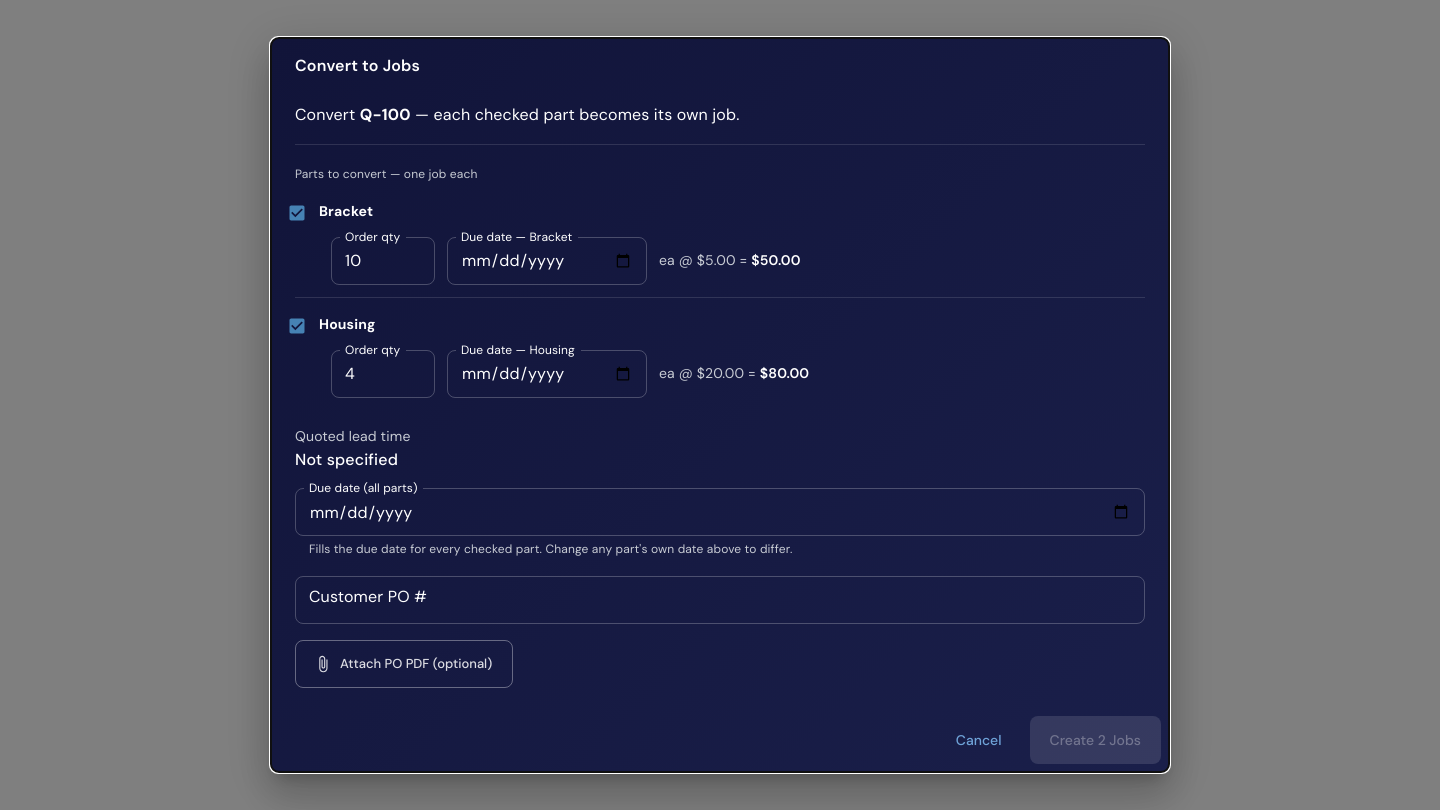
Test: ConvertToJobModal — one job per checked part › counts the jobs on the button, and drops back to the mirror number at one part
Expected: the button "Create 2 Jobs" is shown, [1030,716,1161,764]
Click the checkbox named "include housing" at point(297, 326), box [287,316,307,336]
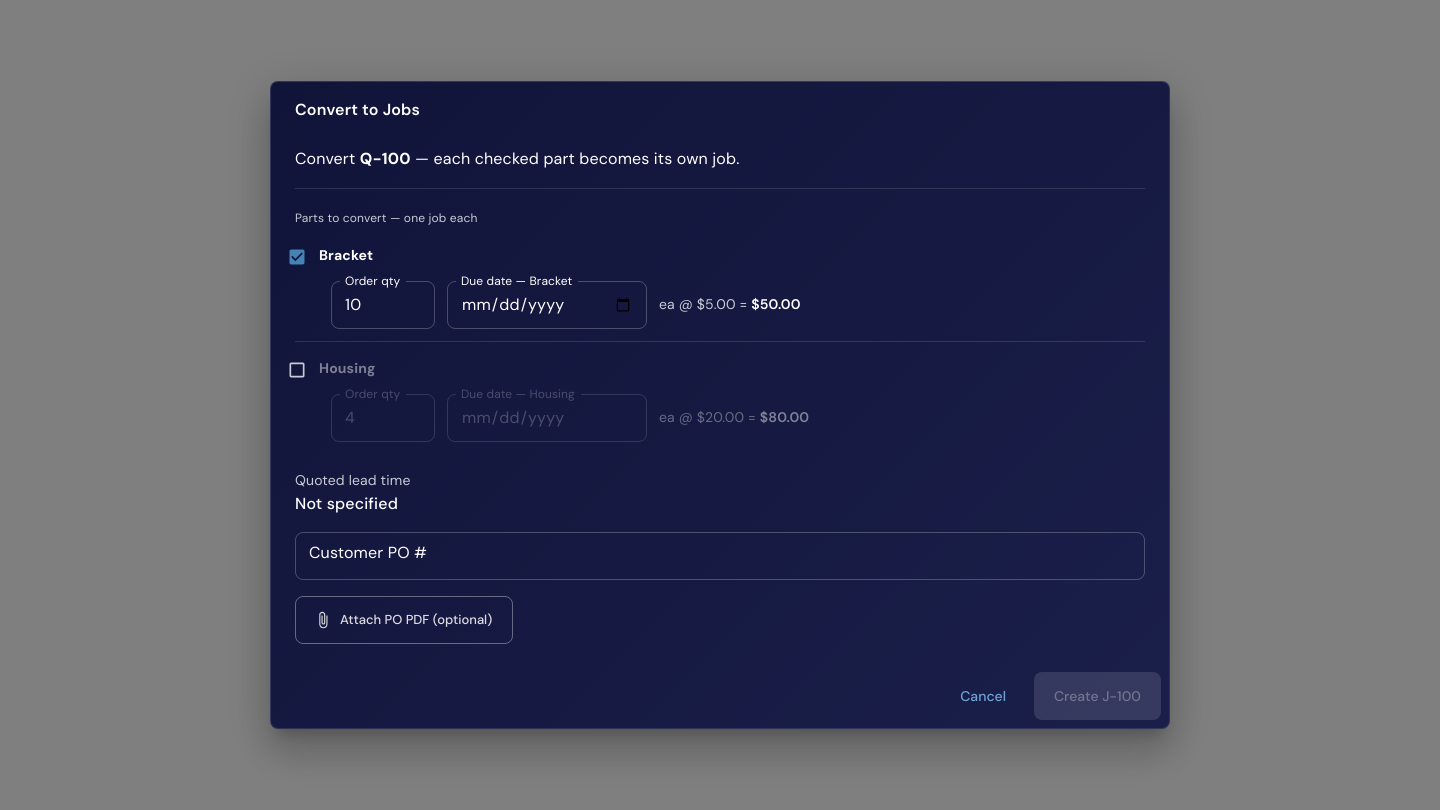
Expected: the button "Create J-100" is shown, [1034,672,1161,720]
